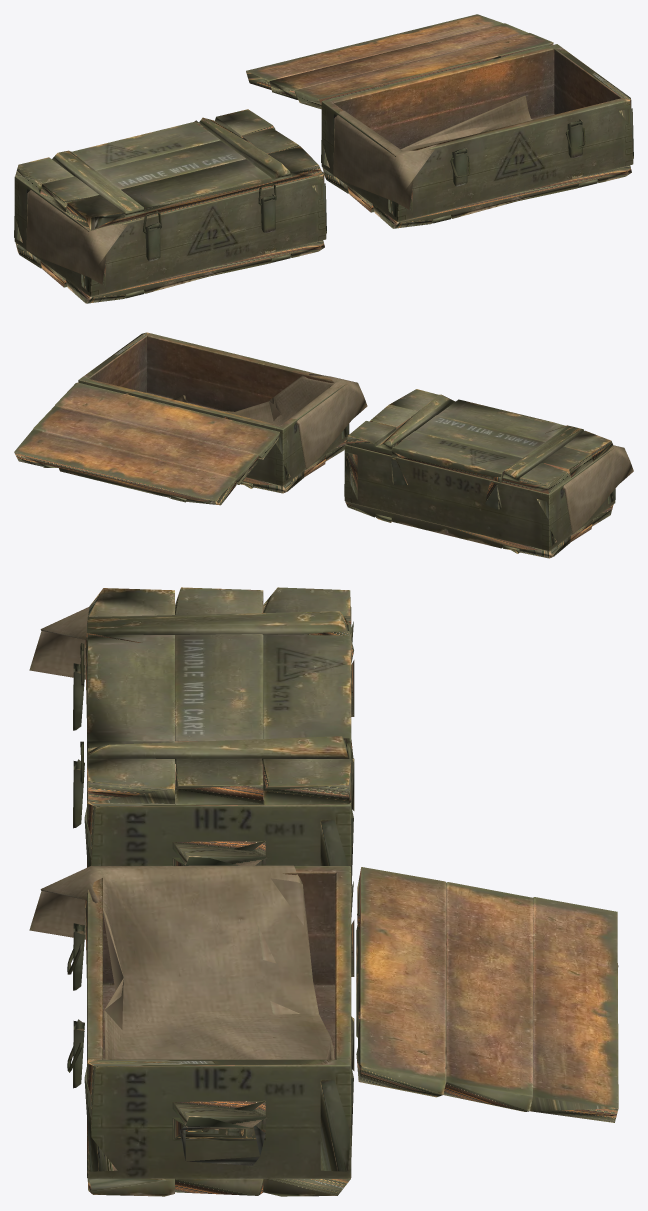
Rendered from old_military_crate.glb.
3 renders of one model, top to bottom at view 1: azimuth 30°, elevation 25°; view 2: azimuth 150°, elevation 25°; view 3: azimuth 270°, elevation 25°, orthographic. The views are drawn at different scales.
Parts seen in each view (by area): view 1: old_military_crate_b, old_military_crate_lid_a, old_military_crate_a, old_military_crate_lid_b, old_military_crate_cloth_b, old_military_crate_cloth_a, old_military_crate_latch_a, old_military_crate_latch_b; view 2: old_military_crate_lid_b, old_military_crate_a, old_military_crate_lid_a, old_military_crate_b, old_military_crate_cloth_b, old_military_crate_cloth_a; view 3: old_military_crate_lid_a, old_military_crate_lid_b, old_military_crate_b, old_military_crate_cloth_b, old_military_crate_a, old_military_crate_cloth_a, old_military_crate_latch_a, old_military_crate_latch_b.
Part boxes in pixels (left/top/right/bottom): old_military_crate_b: left=321, top=44, right=633, bottom=228; old_military_crate_lid_a: left=15, top=109, right=322, bottom=230; old_military_crate_a: left=14, top=171, right=326, bottom=303; old_military_crate_lid_b: left=246, top=14, right=553, bottom=109; old_military_crate_cloth_b: left=333, top=95, right=532, bottom=209; old_military_crate_cloth_a: left=26, top=190, right=127, bottom=284; old_military_crate_latch_a: left=145, top=194, right=275, bottom=261; old_military_crate_latch_b: left=452, top=119, right=582, bottom=186; old_military_crate_lid_b: left=14, top=382, right=279, bottom=505; old_military_crate_a: left=344, top=444, right=615, bottom=558; old_military_crate_lid_a: left=346, top=389, right=613, bottom=494; old_military_crate_b: left=78, top=332, right=349, bottom=493; old_military_crate_cloth_b: left=172, top=373, right=367, bottom=469; old_military_crate_cloth_a: left=562, top=445, right=633, bottom=534; old_military_crate_lid_a: left=86, top=587, right=353, bottom=804; old_military_crate_lid_b: left=356, top=867, right=618, bottom=1122; old_military_crate_b: left=84, top=866, right=354, bottom=1196; old_military_crate_cloth_b: left=29, top=865, right=333, bottom=1059; old_military_crate_a: left=84, top=607, right=354, bottom=886; old_military_crate_cloth_a: left=29, top=606, right=263, bottom=799; old_military_crate_latch_a: left=73, top=663, right=84, bottom=828; old_military_crate_latch_b: left=73, top=923, right=84, bottom=1088.
Size of the model in its own units: 1.82 by 0.3009 by 0.9579.
Materials: 1 (1 with a texture image).
